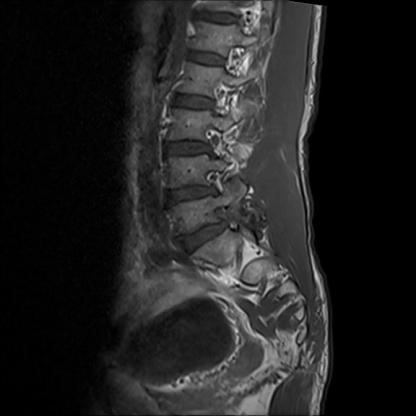Disc Bulgerotation: (173, 217, 244, 247)
